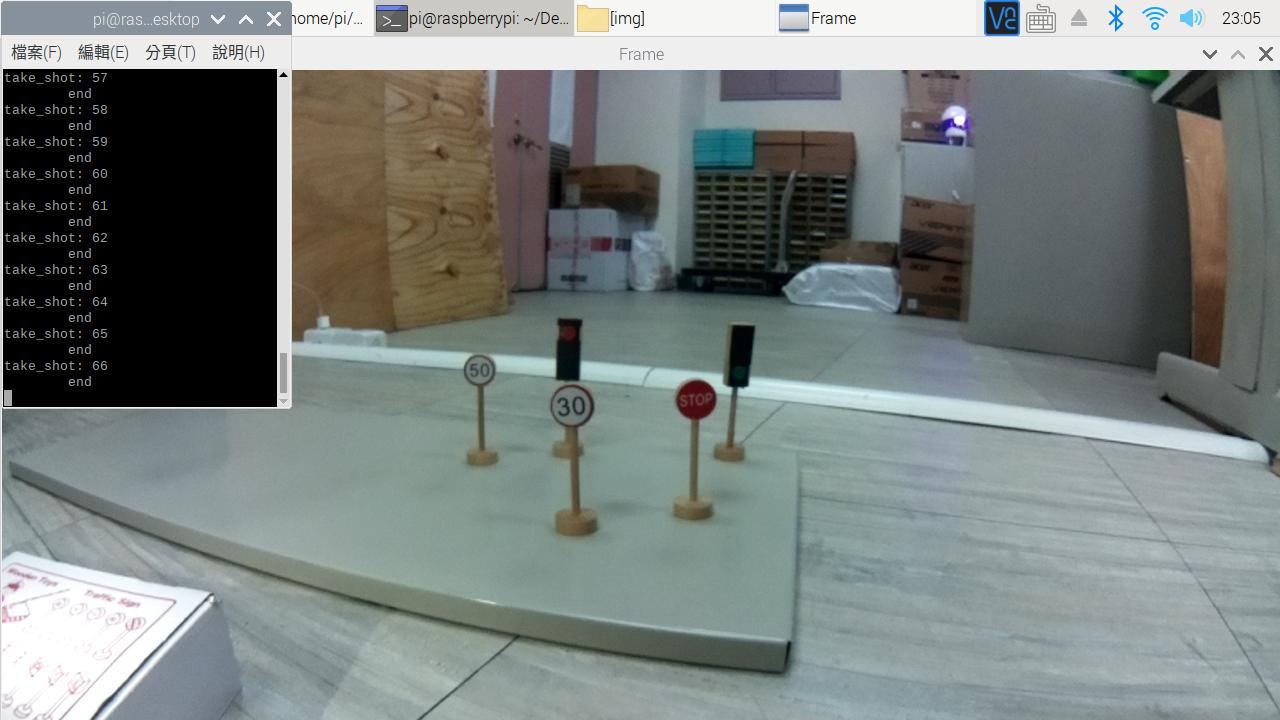Green: (724, 322, 758, 395)
Red: (549, 312, 592, 385)
Speed30: (549, 381, 604, 428)
Speed50: (454, 353, 504, 390)
Stop: (668, 370, 718, 425)
